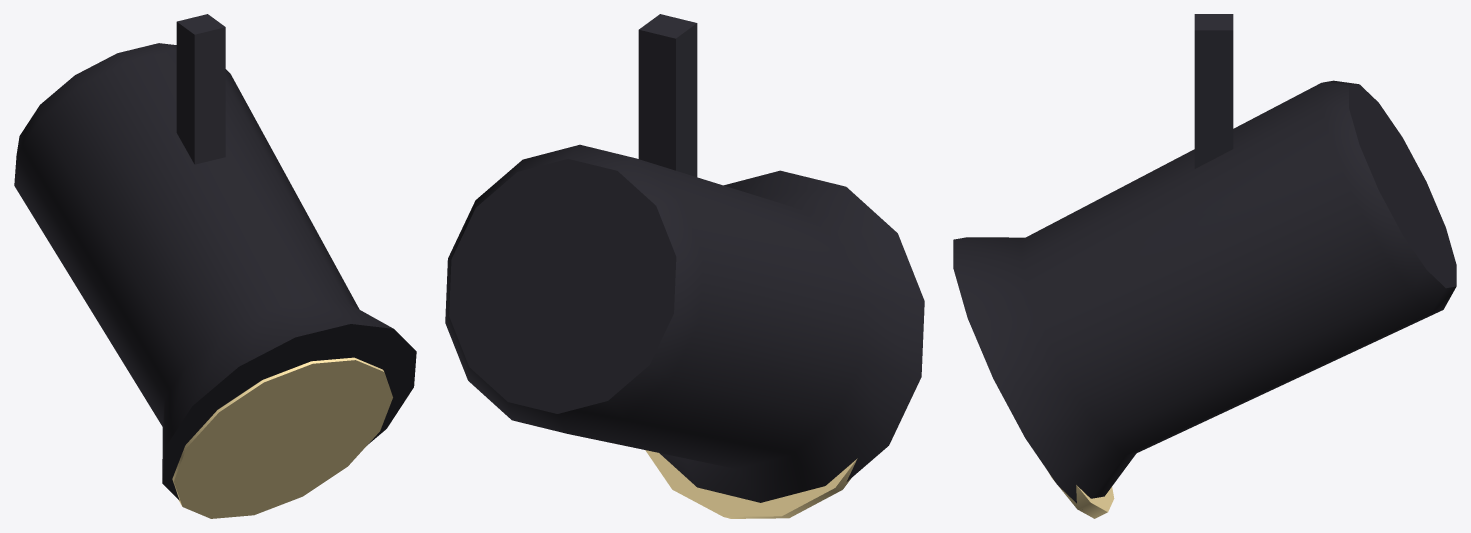
The model's file is spotlight_block.glb.
The picture shows the model from 3 angles, left to right: view 1: azimuth 30°, elevation 25°; view 2: azimuth 150°, elevation 25°; view 3: azimuth 270°, elevation 25°; orthographic projection. The views are drawn at different scales.
Parts seen in each view (by area): view 1: spotlight; view 2: spotlight; view 3: spotlight.
Part boxes in pixels (x1,y1,x2,y2): spotlight: [14, 14, 416, 518]; spotlight: [445, 14, 924, 518]; spotlight: [953, 14, 1456, 518].
Bounding box in the file's own units: 0.4 × 0.694 × 0.655.
